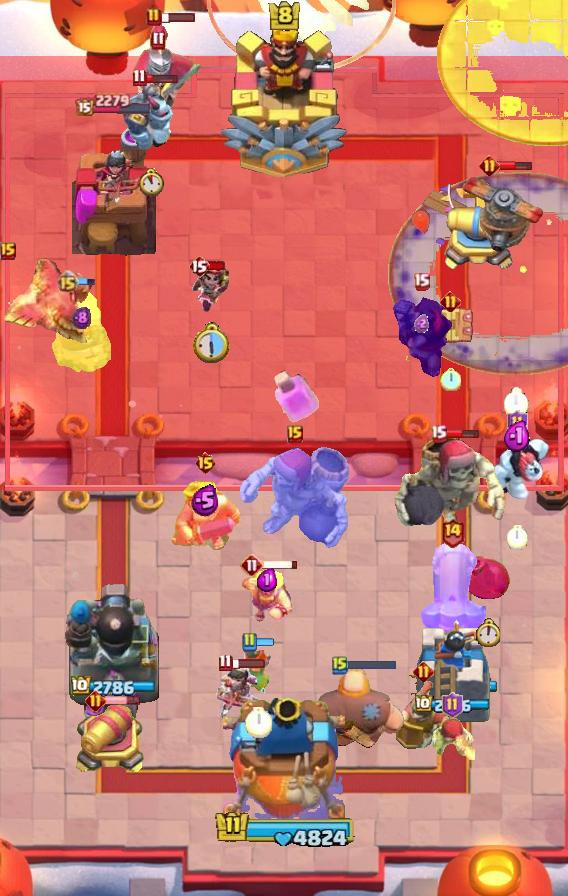arrows: (240, 567, 294, 625)
baby-dragon: (461, 551, 513, 605)
balloon: (301, 665, 407, 755)
bomber-evolution: (192, 267, 232, 315)
clock: (210, 809, 358, 851)
dark-prince: (455, 170, 553, 252)
earthquake: (396, 681, 450, 749)
electro-giant: (392, 434, 508, 548), (237, 444, 353, 554)
electro-spirit: (191, 484, 219, 517), (504, 420, 532, 452), (257, 568, 277, 592), (72, 306, 91, 330), (415, 315, 430, 333)
elixir: (192, 322, 231, 364), (244, 707, 271, 738), (137, 168, 165, 196), (504, 387, 529, 417), (476, 617, 501, 646), (508, 525, 529, 550), (439, 367, 460, 391)
elixir-golem-small: (121, 81, 181, 151)
emote: (345, 657, 397, 670), (104, 694, 141, 706), (160, 11, 196, 23), (444, 428, 480, 440), (230, 657, 266, 669), (144, 72, 179, 84), (262, 558, 299, 569), (497, 161, 533, 172), (209, 260, 228, 272), (76, 276, 95, 287), (255, 637, 274, 648)
furnace: (418, 539, 486, 651)
goblin-brawler: (425, 303, 475, 349)
goblin-hut: (168, 477, 242, 555)
hog-rider: (239, 645, 277, 697)
ice-golem: (429, 718, 475, 760)
ice-wizard: (208, 0, 396, 72)
inferno-dragon: (387, 292, 455, 380)
king-tower: (219, 23, 349, 181), (223, 698, 345, 826)
knight-evolution: (274, 369, 320, 422)
magic-archer: (51, 281, 111, 373)
mother-witch: (0, 256, 96, 350)
phoenix-egg: (437, 0, 568, 146)
queen-tower: (72, 122, 156, 256), (409, 616, 497, 731)
rage: (484, 437, 550, 501)
rocket: (388, 172, 568, 376)
royal-recruit: (444, 190, 518, 274), (75, 703, 147, 777)
selected: (70, 676, 157, 698), (75, 92, 153, 116), (416, 695, 493, 715)
skeleton-dragon: (213, 660, 261, 722)
text: (440, 517, 465, 547), (240, 553, 264, 577), (56, 270, 79, 294), (194, 451, 217, 475), (508, 410, 529, 436), (442, 692, 463, 718), (188, 254, 210, 278), (479, 155, 501, 177), (414, 661, 435, 683), (85, 689, 106, 711), (439, 292, 460, 313), (146, 7, 162, 27), (241, 632, 257, 652), (332, 655, 348, 675), (414, 273, 431, 291), (430, 425, 447, 443), (0, 242, 16, 260), (287, 425, 303, 443), (218, 652, 233, 671), (133, 69, 147, 88)
tower-bar: (63, 579, 165, 731)
wall-breaker-evolution: (131, 22, 203, 124)
